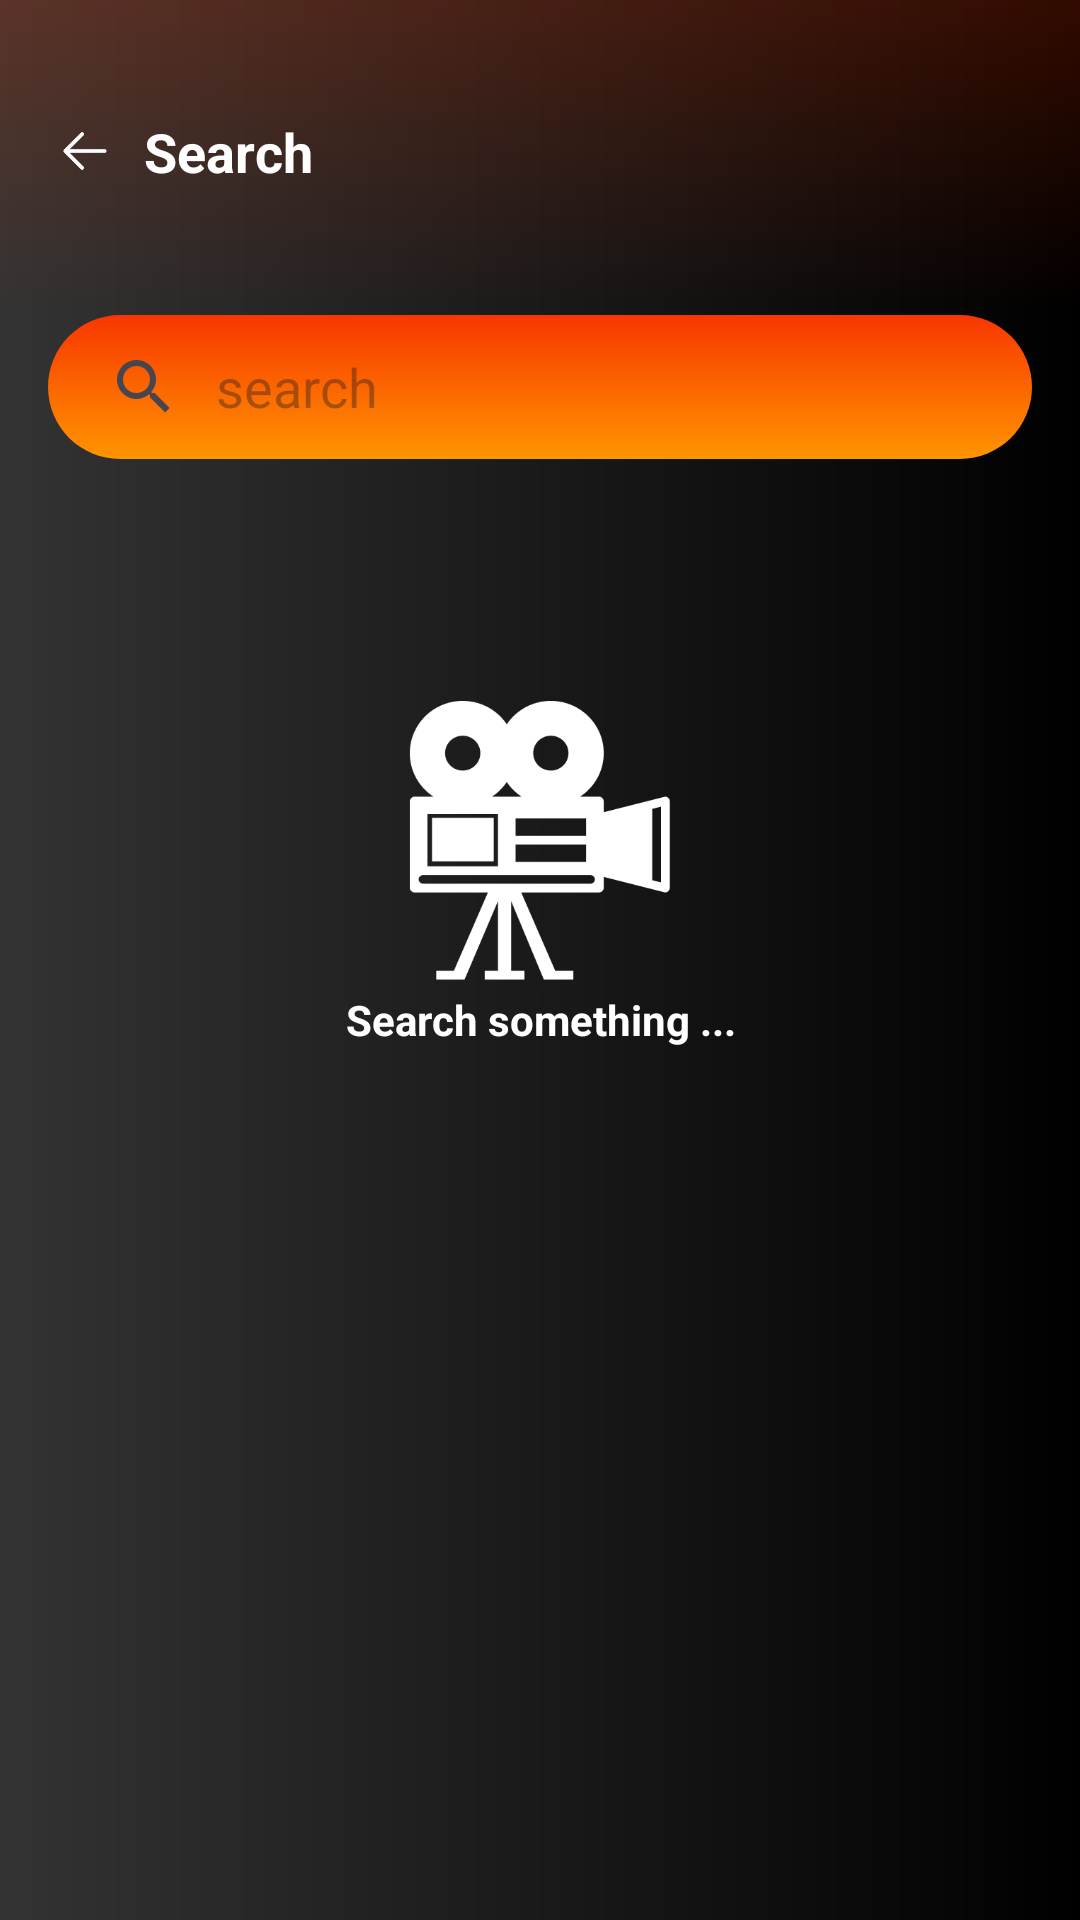

Icon bounding boxes for this 1080x1920 phone screenshot, format detection(x1, y1, x2, y2):
back arrow: detection(63, 132, 107, 170)
